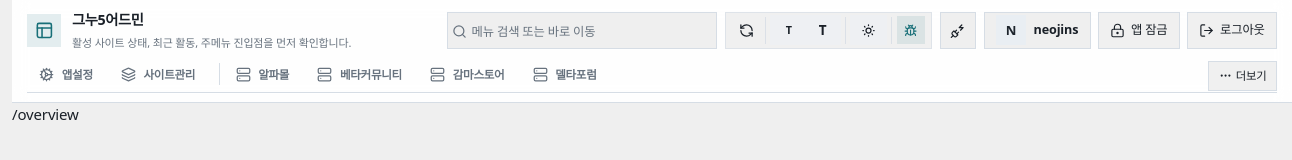
Test: AppShellHeader › keeps the fixed workspace tabs wired to the canonical landing routes
The image size is (1292, 160).
Click the link "사이트관리".
click(158, 74)  # box x1=121 y1=67 x2=195 y2=82
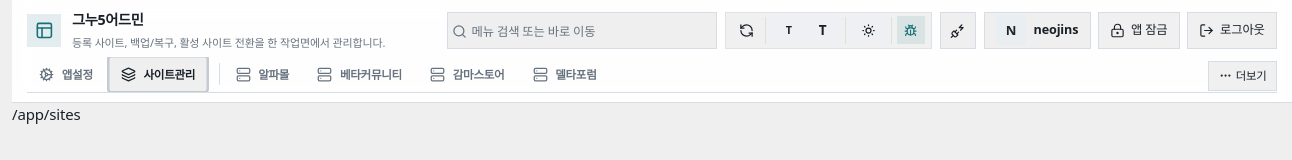
Now the text with test id "location" reads "/app/sites", box x1=12 y1=104 x2=81 y2=124
